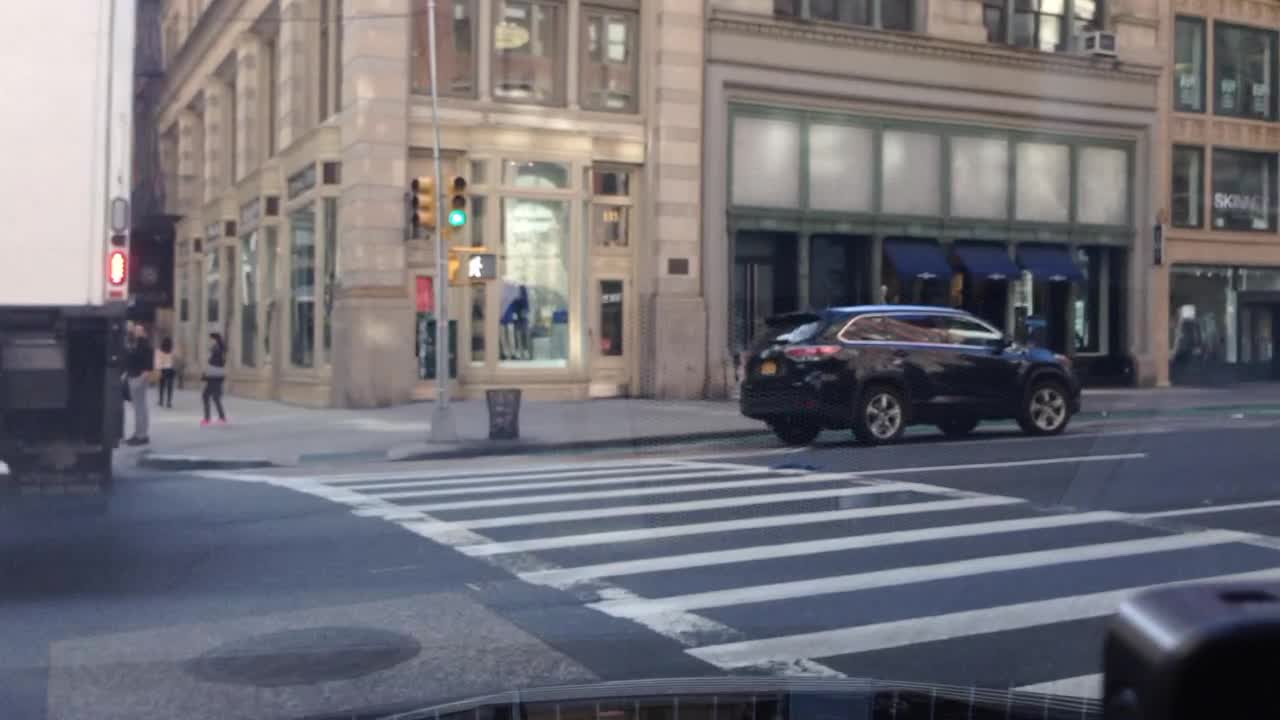car: (740, 305, 1080, 440)
person: (125, 323, 149, 446), (200, 329, 230, 426), (155, 332, 176, 407)
traffic light: (463, 248, 501, 283), (412, 173, 433, 230), (442, 175, 463, 227), (445, 248, 460, 290)
truck: (0, 1, 179, 495)
